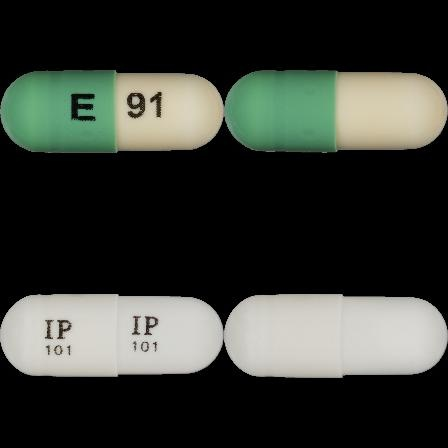33261-045: (0, 0, 224, 224)
